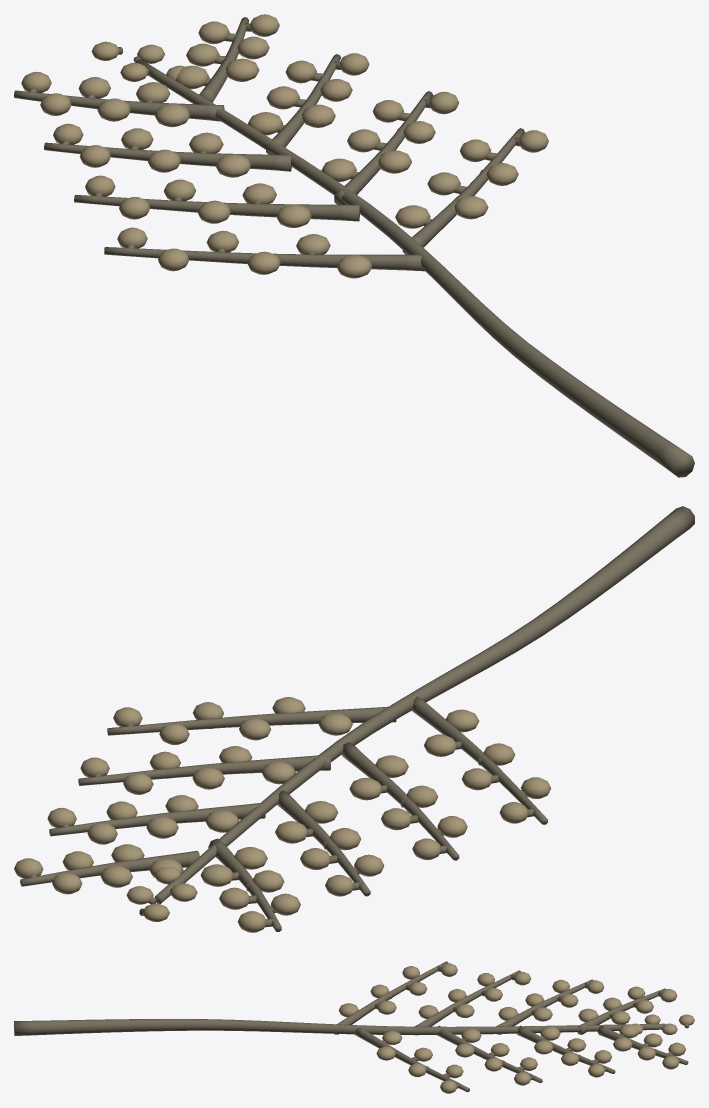
Rendered from botrychium.glb.
The picture shows the model from 3 angles, top to bottom: view 1: azimuth 30°, elevation 25°; view 2: azimuth 150°, elevation 25°; view 3: azimuth 270°, elevation 25°; orthographic projection. The views are drawn at different scales.
Parts seen in each view (by area): view 1: Attached compressed rounded sporangia clusters, Single attached fertile branch system in shallow relief; view 2: Attached compressed rounded sporangia clusters, Single attached fertile branch system in shallow relief; view 3: Single attached fertile branch system in shallow relief, Attached compressed rounded sporangia clusters.
Part boxes in pixels (<box>): Attached compressed rounded sporangia clusters: <box>21,14,548,278</box>; Single attached fertile branch system in shallow relief: <box>14,17,694,477</box>; Attached compressed rounded sporangia clusters: <box>14,697,551,932</box>; Single attached fertile branch system in shallow relief: <box>20,506,694,931</box>; Single attached fertile branch system in shallow relief: <box>14,961,689,1091</box>; Attached compressed rounded sporangia clusters: <box>338,963,694,1093</box>.
Bounding box in the file's own units: 0.0723 × 0.00425 × 0.16.
